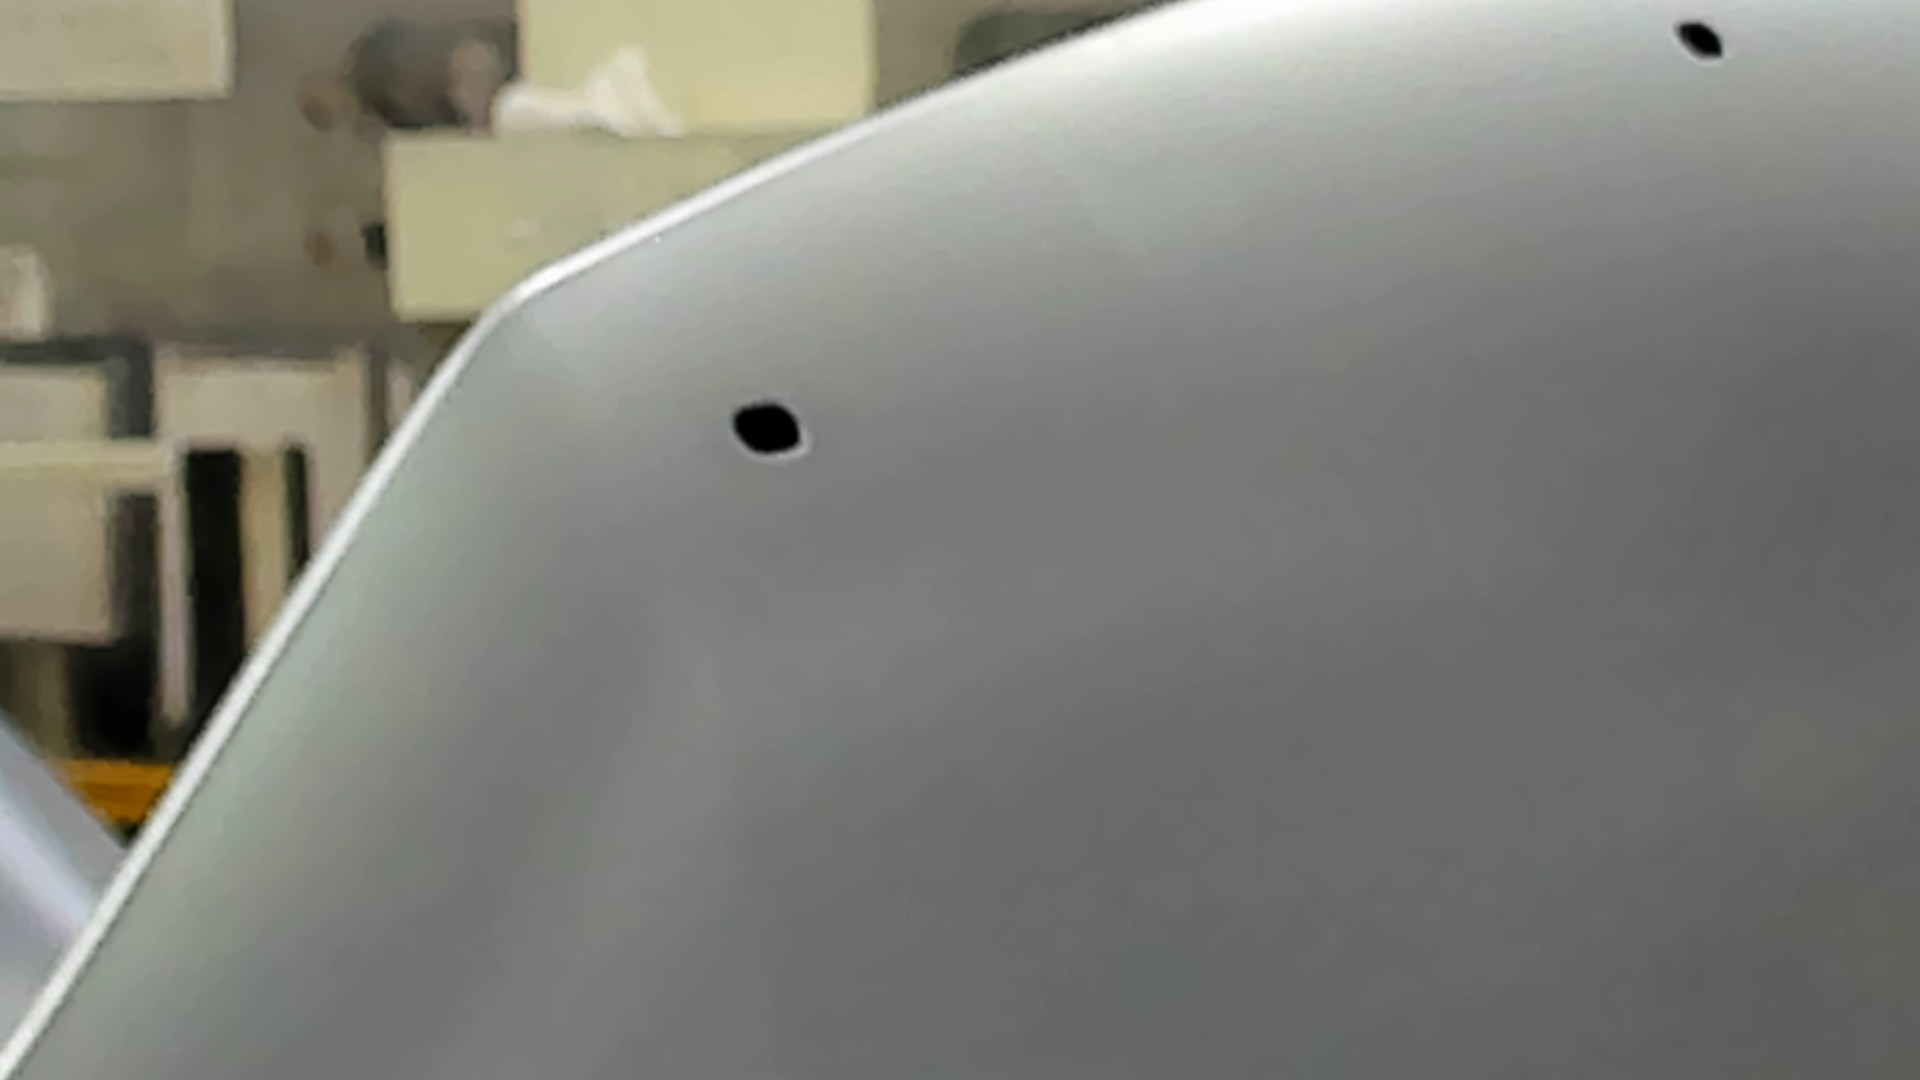amorfo: (728, 400, 814, 462), (1673, 18, 1727, 65)
